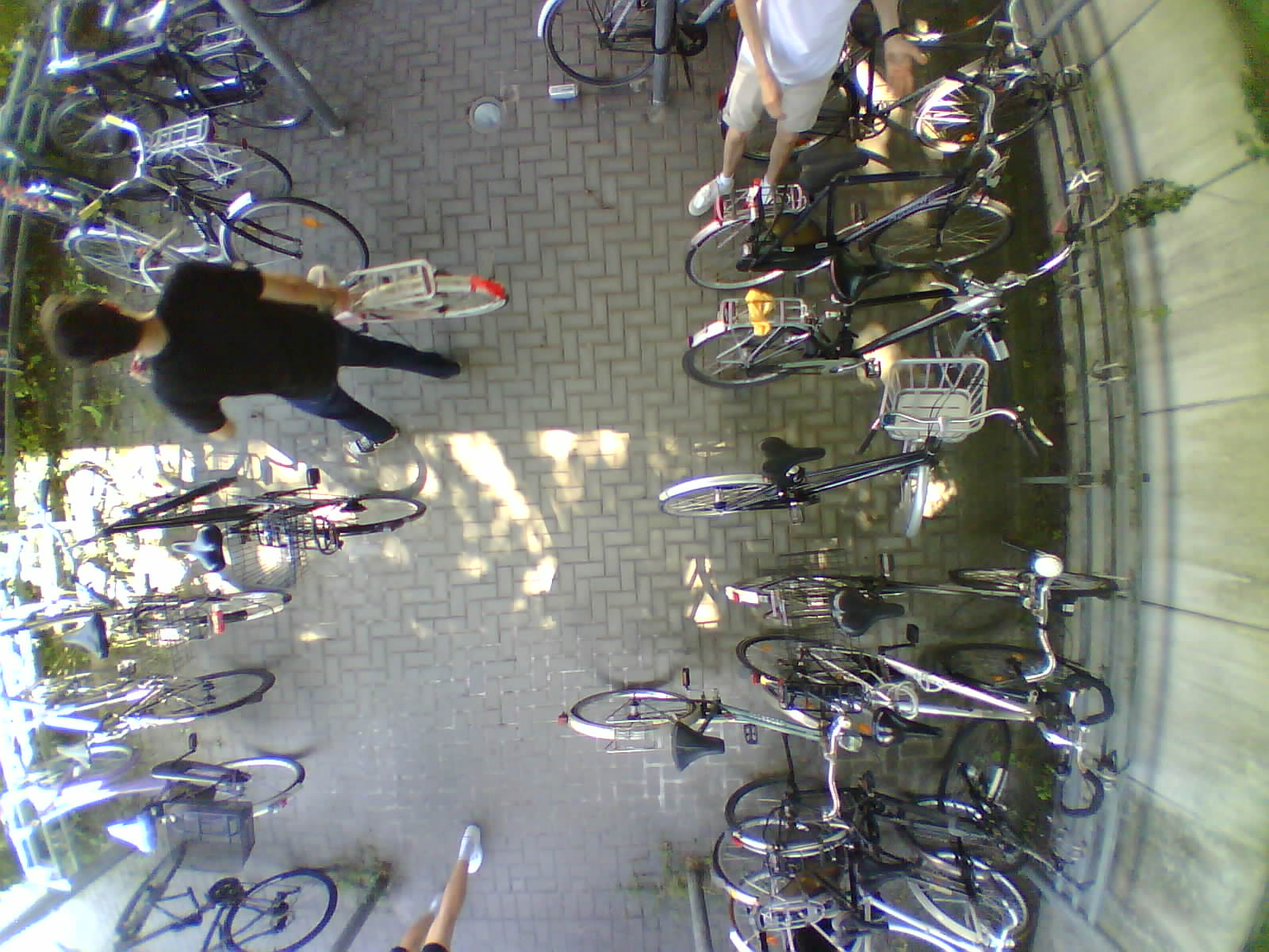bicylce: (658, 390, 984, 536), (683, 143, 1017, 285), (732, 630, 1112, 754), (686, 263, 1016, 402), (59, 473, 425, 574), (726, 745, 1033, 857), (65, 175, 367, 285), (40, 10, 290, 139), (724, 551, 1123, 631), (823, 20, 1048, 159), (557, 680, 880, 776), (709, 824, 1055, 907), (11, 759, 299, 850), (727, 870, 1034, 951), (32, 121, 298, 213), (100, 855, 332, 952), (11, 668, 276, 752), (8, 586, 293, 660), (238, 464, 245, 475)
saddle: (834, 585, 905, 631), (169, 523, 228, 575), (756, 435, 829, 475), (670, 719, 725, 771), (871, 708, 946, 746), (829, 253, 889, 300), (75, 109, 138, 152), (854, 851, 915, 895), (800, 145, 870, 183), (55, 616, 112, 661), (833, 907, 894, 946), (103, 811, 158, 852), (122, 1, 172, 36), (53, 744, 97, 769)
